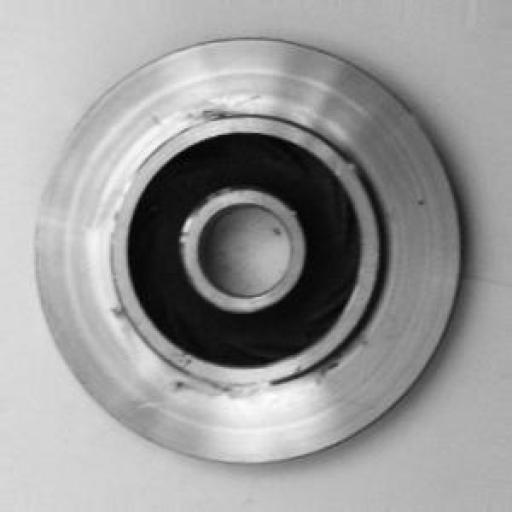defect: (107, 106, 381, 418)
